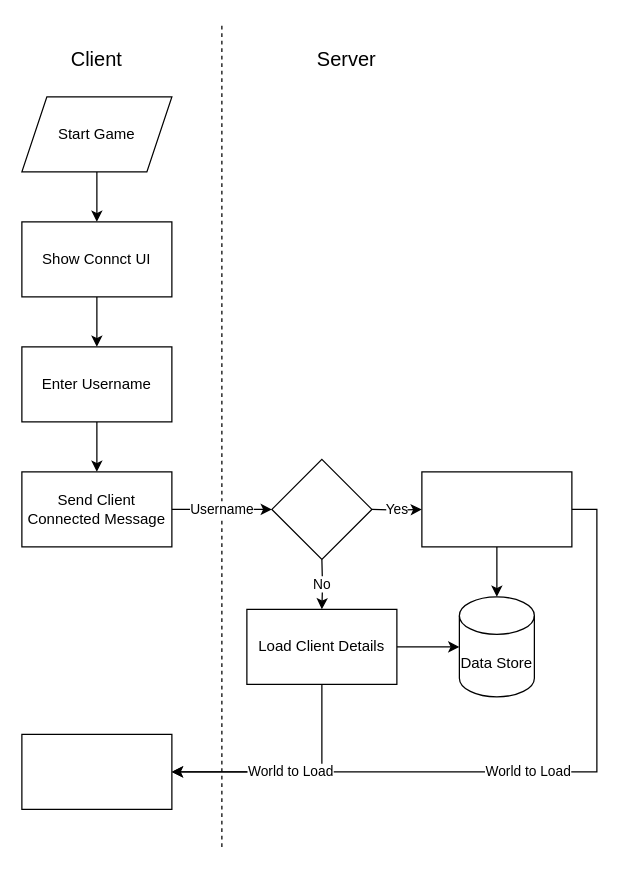
The diagram is 629 pixels wide and 870 high, and some of its shapes have lost their labels. The centre of each missing label's shape, as x and y in pixels:
Is New Client?: the point at 321,508
Load World: the point at 96,771
Register Client: the point at 496,509
